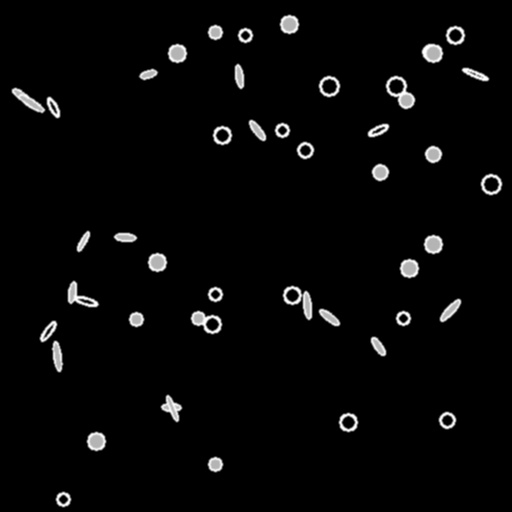pseudomonas: (17, 93, 45, 113), (439, 298, 461, 322), (247, 119, 267, 141), (462, 66, 488, 82), (318, 308, 340, 326), (11, 87, 33, 105), (39, 320, 57, 342), (369, 335, 387, 357), (165, 395, 179, 421), (45, 96, 61, 118), (74, 294, 98, 308), (52, 341, 62, 371), (368, 123, 388, 137), (302, 291, 312, 319), (76, 231, 90, 251), (234, 65, 244, 87), (139, 68, 157, 80), (67, 282, 77, 302), (114, 233, 136, 241), (161, 403, 181, 411)
synechocystis: (387, 77, 405, 95), (482, 175, 500, 193), (320, 77, 338, 95), (214, 127, 230, 143), (425, 236, 441, 252), (88, 433, 104, 449), (425, 45, 441, 61), (284, 287, 300, 303), (281, 16, 297, 32), (401, 260, 417, 276), (149, 254, 165, 270), (169, 45, 185, 61), (340, 414, 356, 430), (204, 316, 220, 332), (447, 27, 463, 43), (298, 143, 312, 157), (423, 45, 437, 59), (373, 165, 387, 179), (399, 93, 413, 107), (440, 413, 454, 427), (426, 147, 440, 161), (397, 312, 409, 324), (276, 124, 288, 136), (209, 458, 221, 470), (57, 493, 69, 505), (209, 26, 221, 38), (130, 313, 142, 325), (192, 312, 204, 324), (209, 288, 221, 300), (239, 29, 251, 41)
